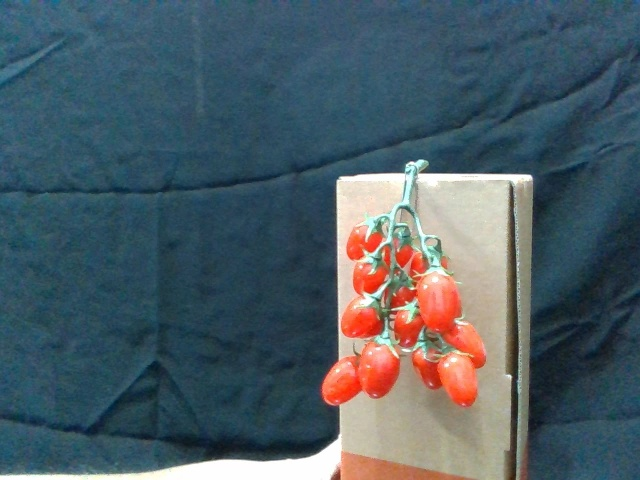tomato: (415, 264, 463, 332), (360, 333, 399, 397), (440, 351, 481, 411), (321, 352, 366, 404), (444, 316, 486, 368), (342, 292, 388, 339), (346, 219, 387, 260), (355, 252, 393, 293), (414, 338, 444, 389), (393, 301, 421, 349)
